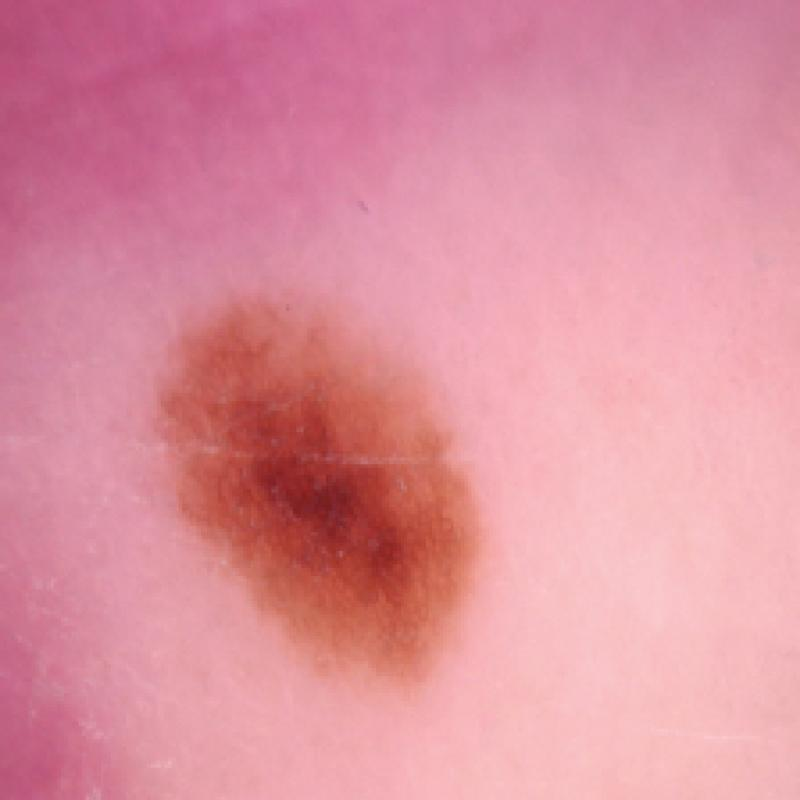benign: (133, 281, 520, 730)
